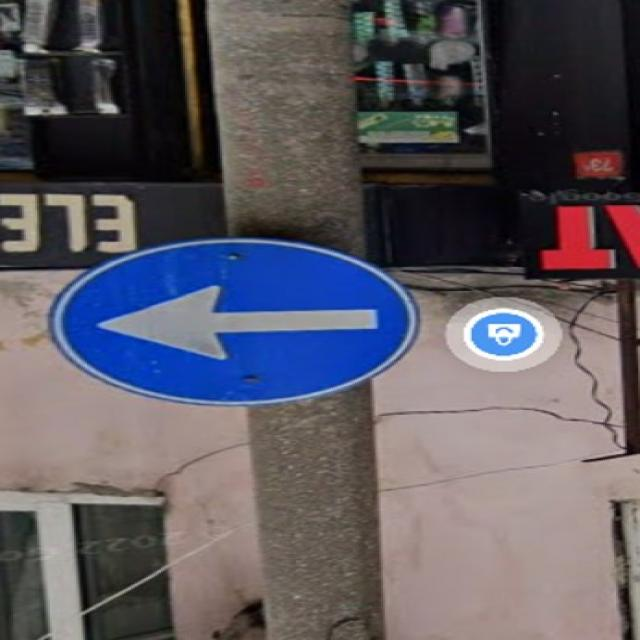Turn Left: (45, 234, 411, 415)
